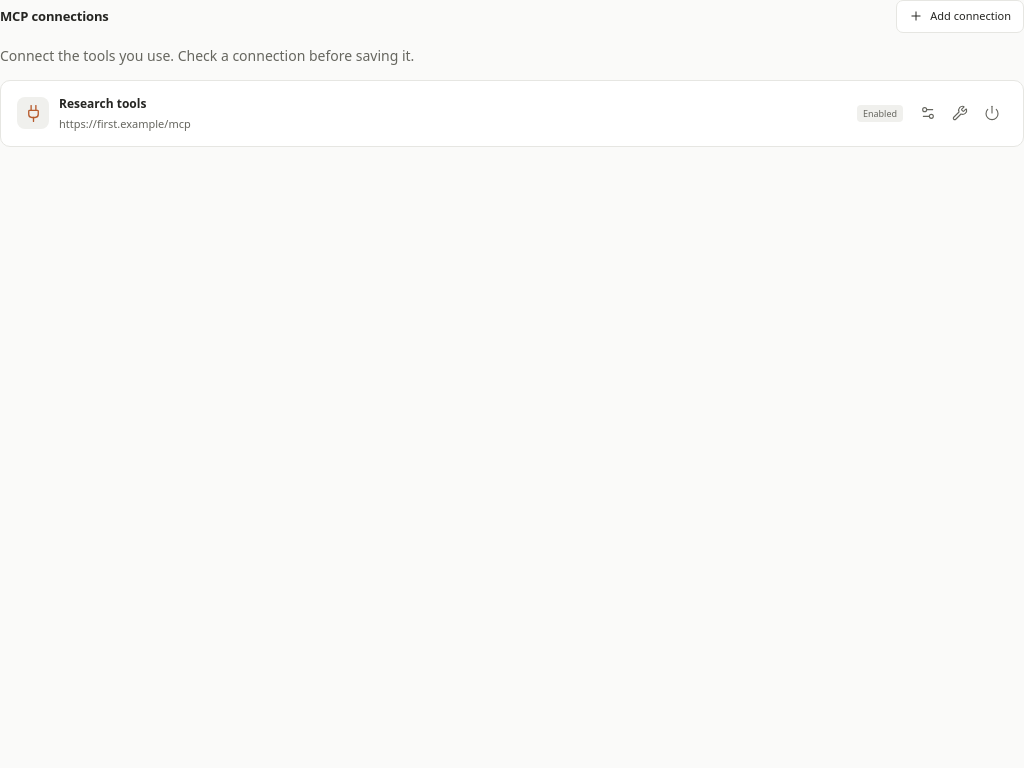
Test: MCP editor credential boundaries › sends editable fields without copying old headers, environment or authentication metadata to a new target
The image size is (1024, 768).
Click the button named "Configure Research tools" at (928, 113), box [913,98,943,128]
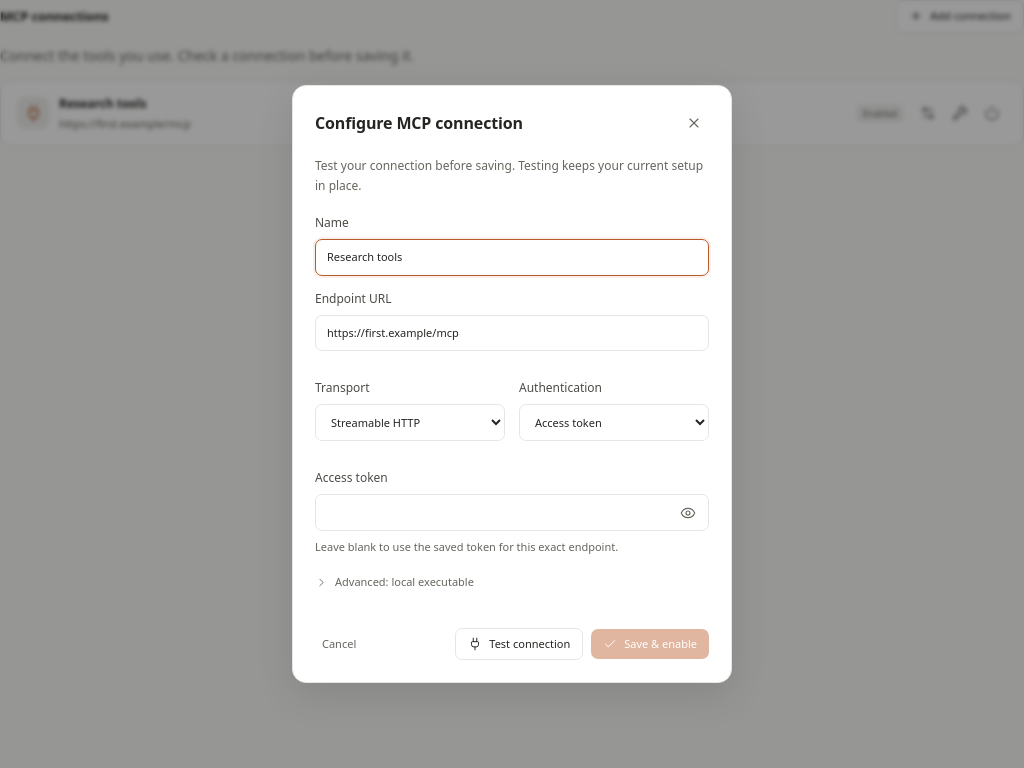
Replace the text in the field labelled "Endpoint URL" with "https://second.example/mcp" at (512, 333), box [315,315,709,351]
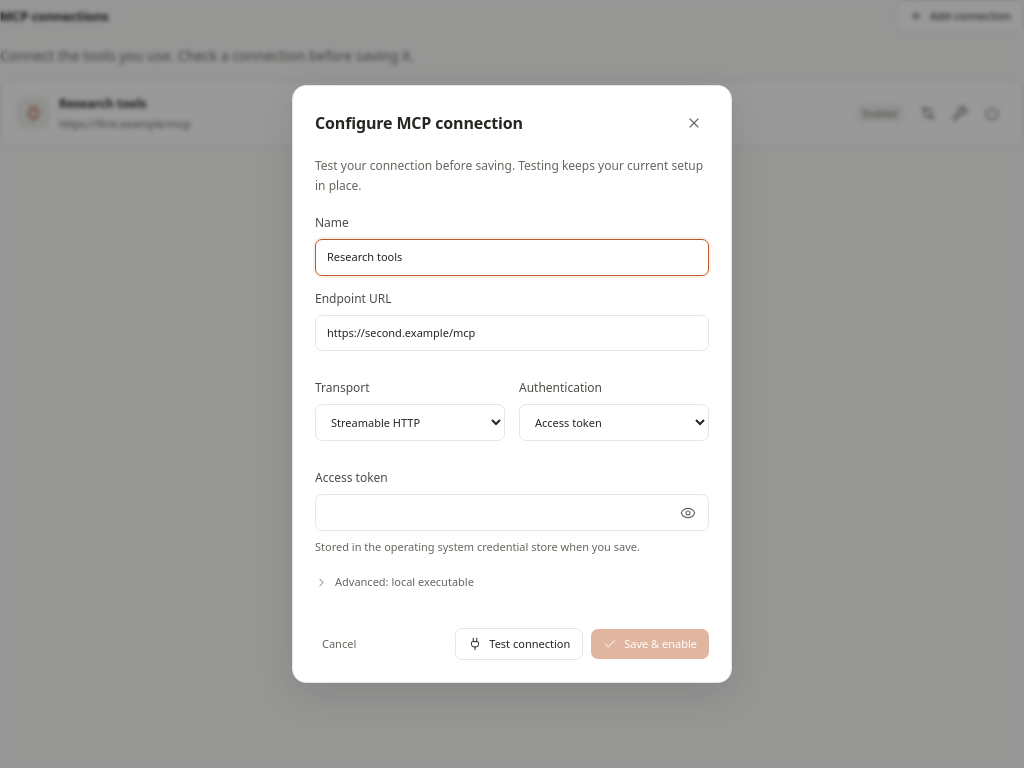
Click the button "Test connection" at (519, 644), box [455,628,583,660]
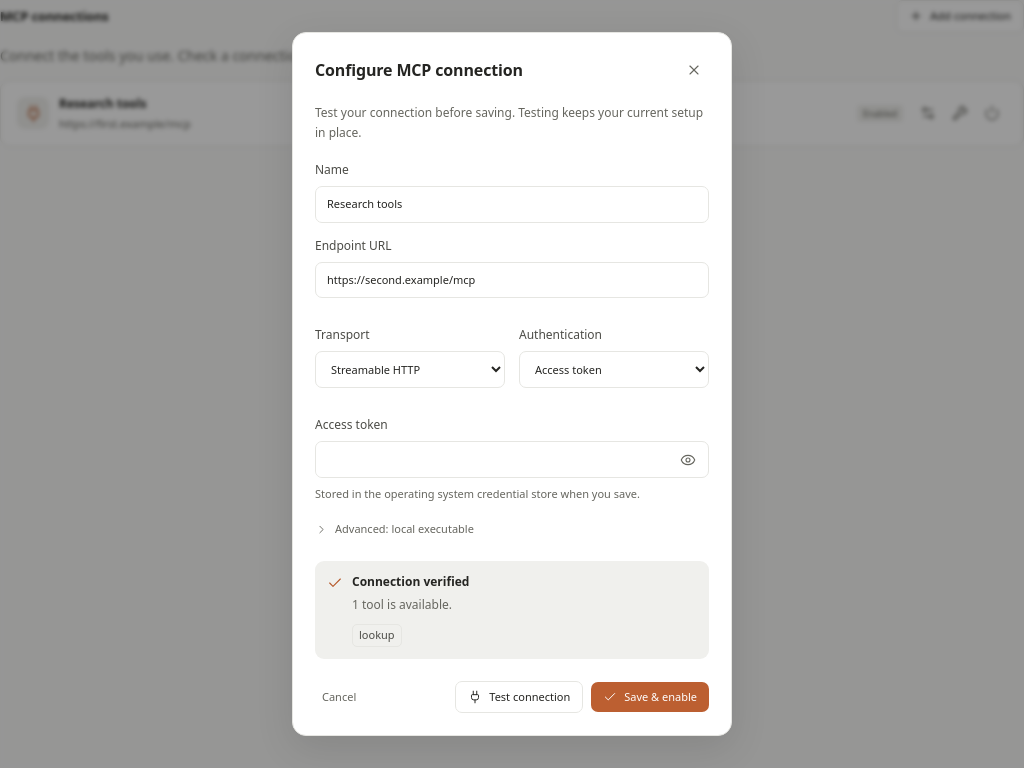
Expected: the text "1 tool is available." is shown, [352,595,469,615]
